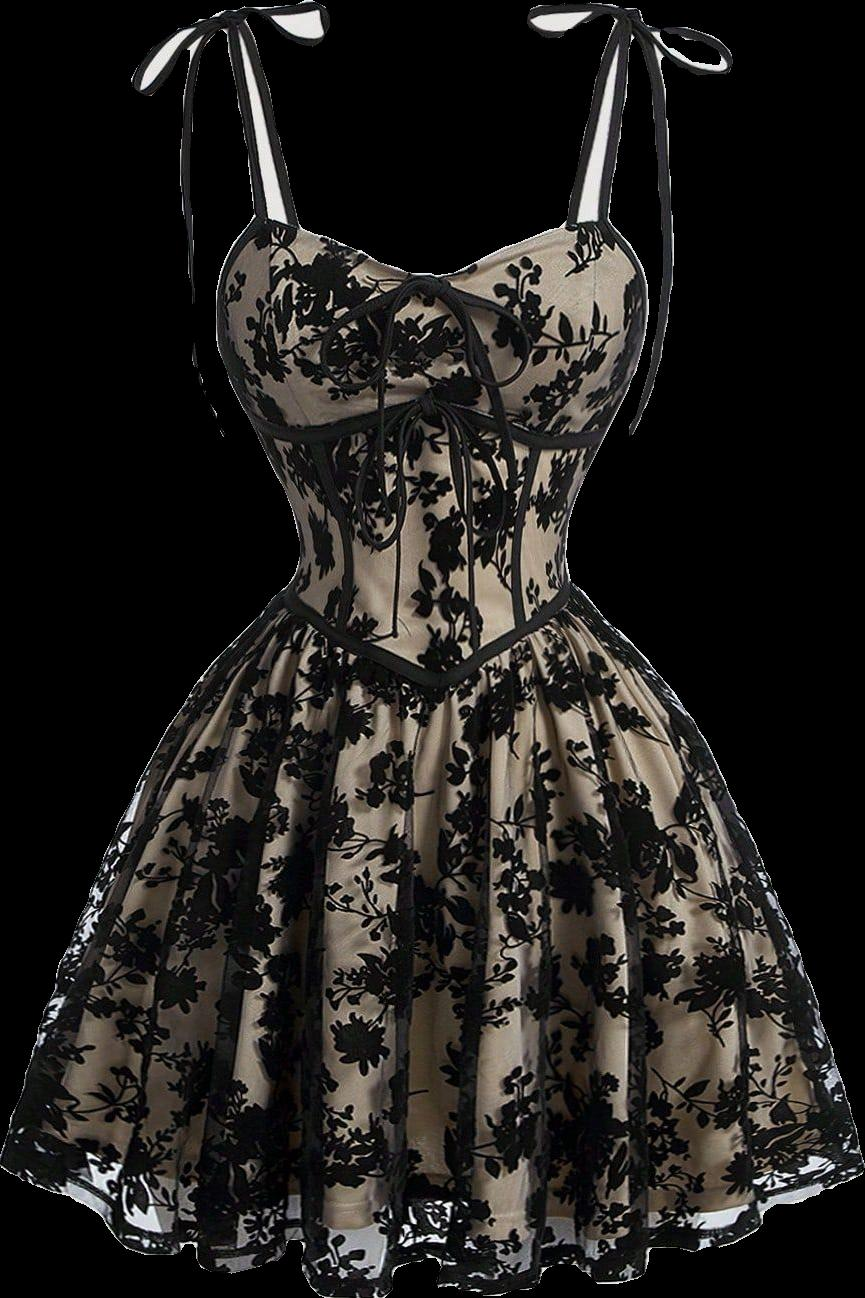Bodice: (215, 8, 649, 698)
Hemline: (0, 1154, 864, 1297)
Neckline: (228, 7, 638, 287), (247, 386, 610, 447)
Skirt: (0, 592, 862, 1297)
Waistline: (273, 591, 590, 707)
